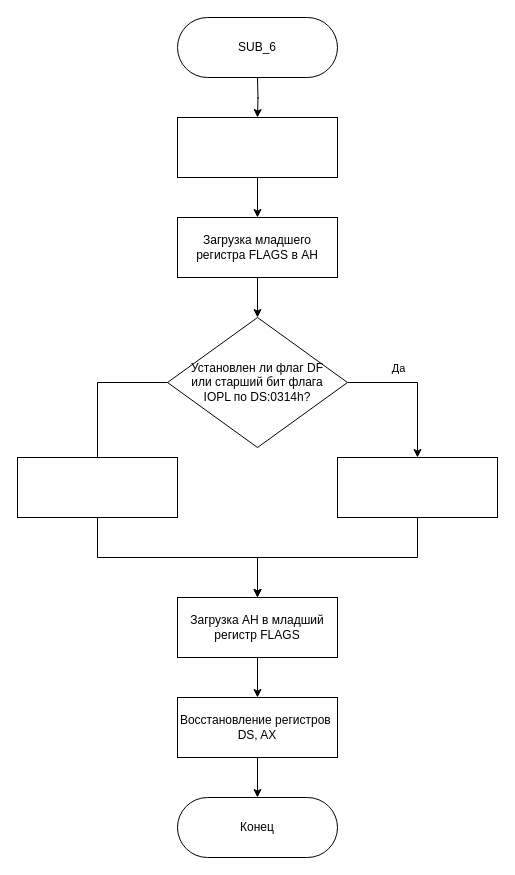
The diagram is 515 pixels wide and 875 high, and some of its shapes have lost their labels. Each missing label, with the centre of its shape:
"Сброс флага IF в FLAG (инструкция cli, запрет прерываний)" goes at point (97, 487).
"Сброс флага IF по адресу DS:0314h (обнулить 9 бит)" goes at point (417, 487).
"Сохранение регистров DS, AX" goes at point (257, 147).
